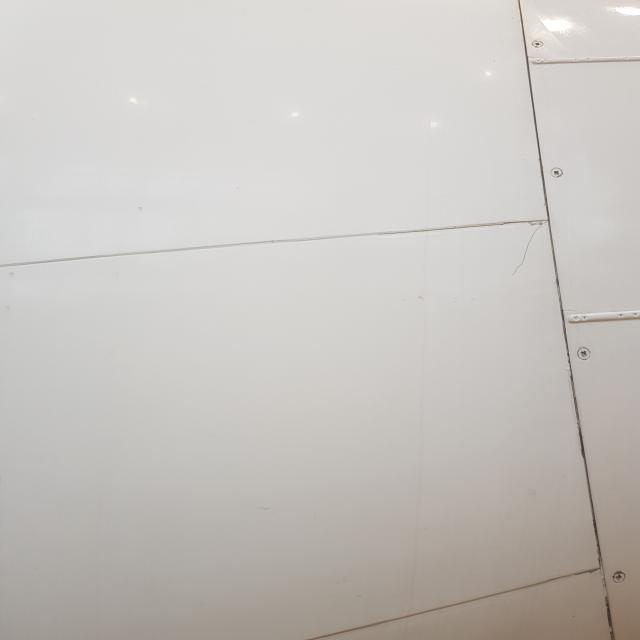Crack: (495, 224, 550, 278)
